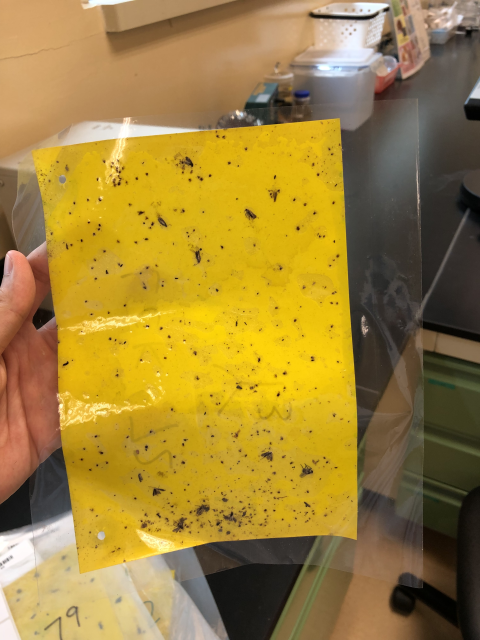DBM: (240, 205, 262, 223), (190, 248, 204, 265), (157, 216, 169, 229)
